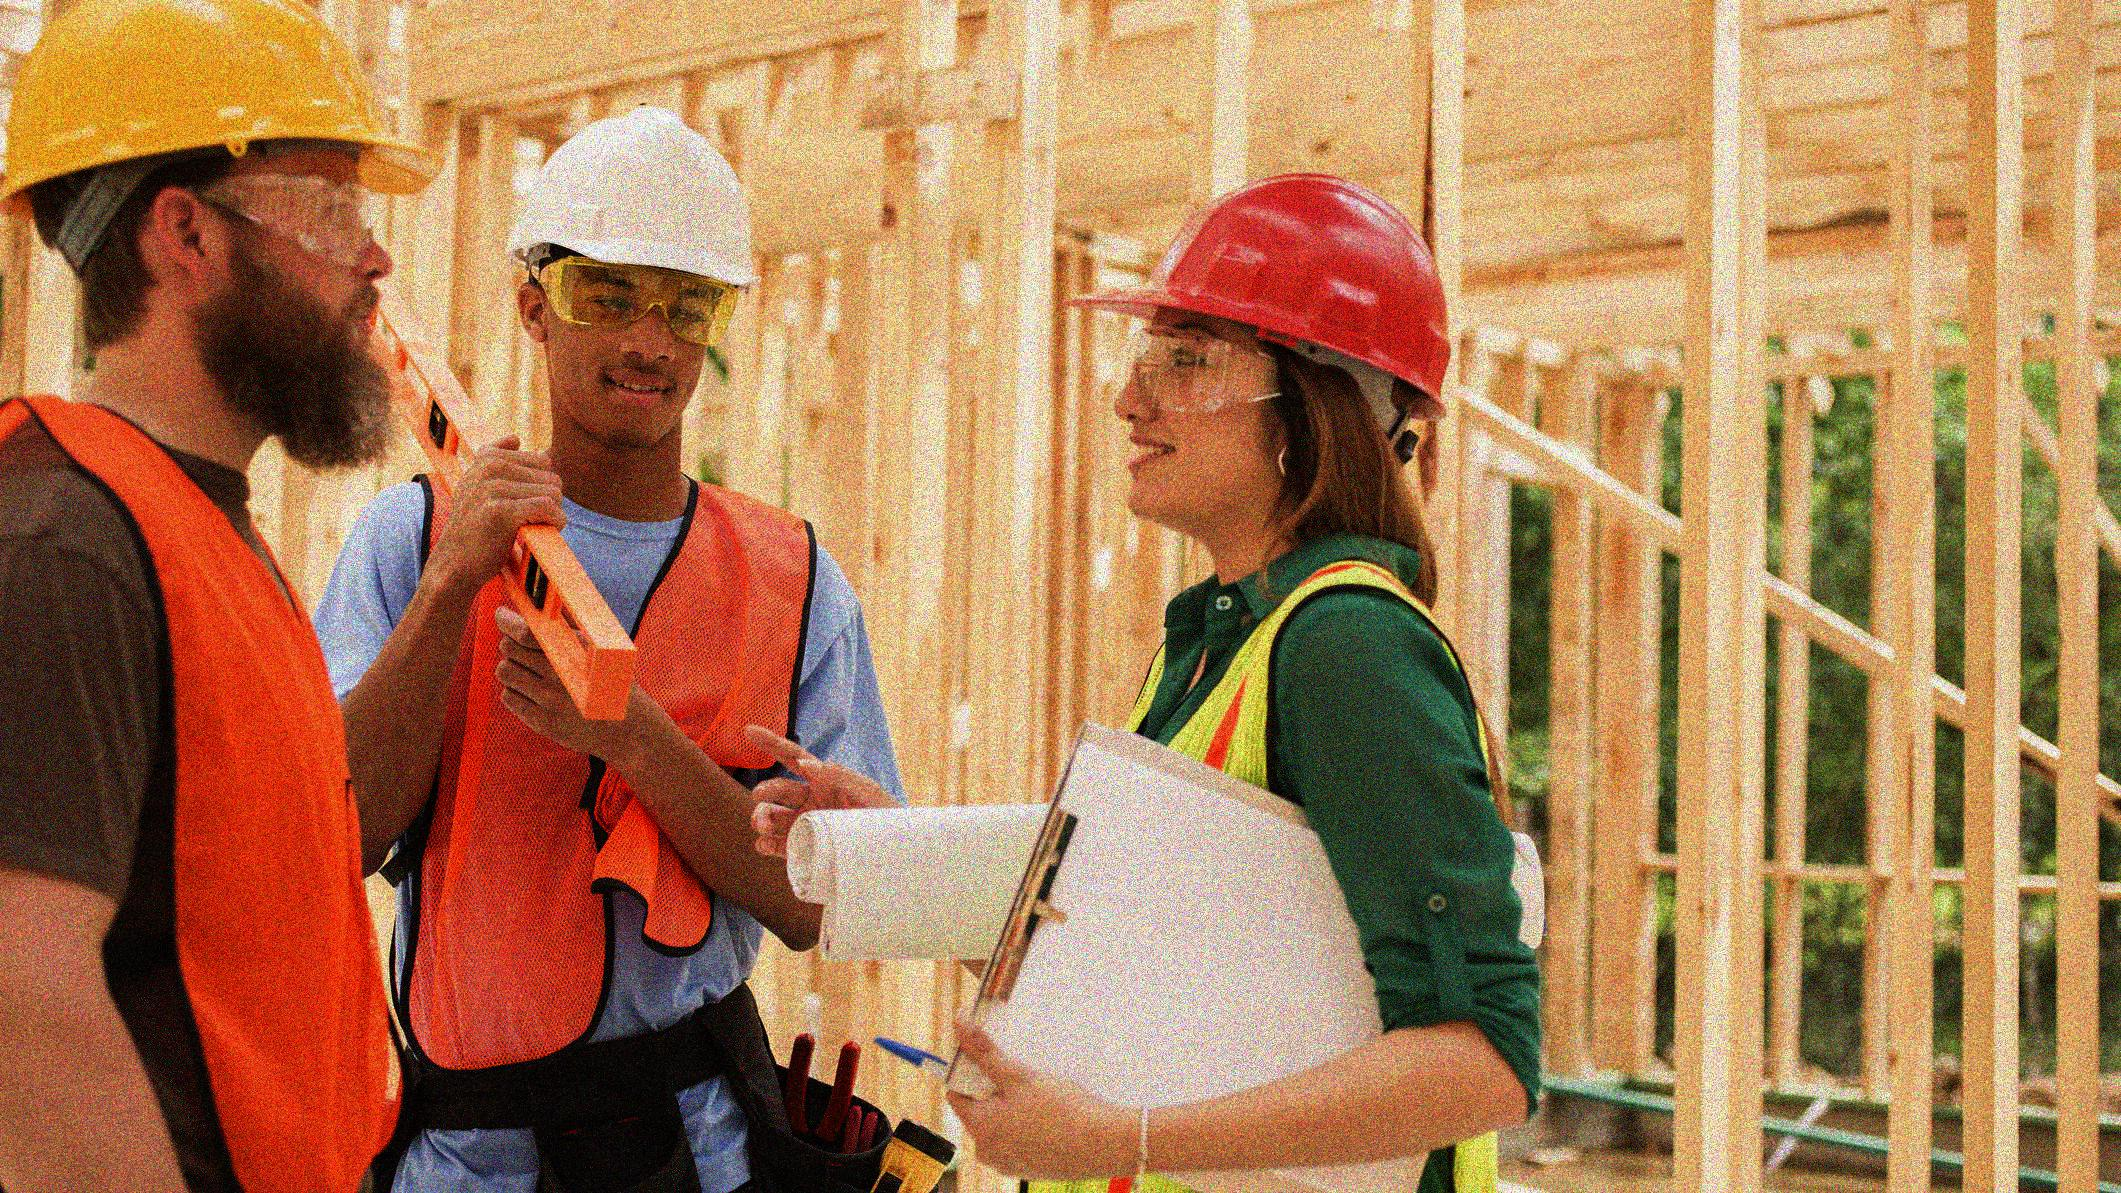helmet: (7, 1, 443, 454), (1063, 169, 1455, 530), (503, 103, 771, 438)
